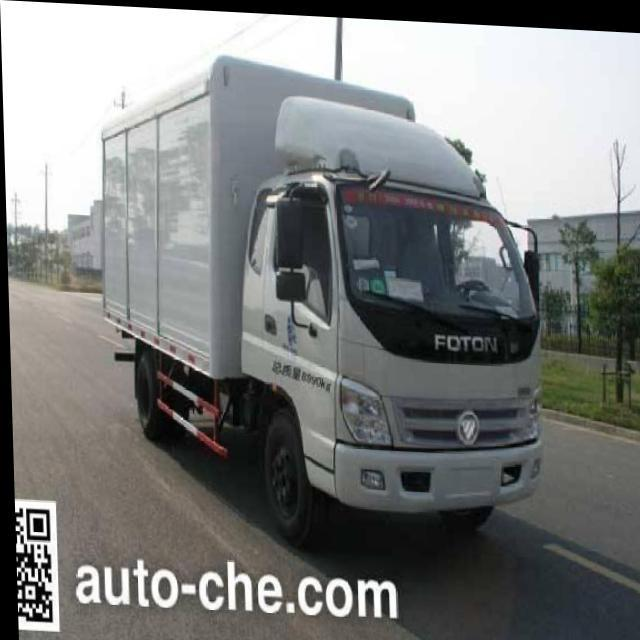covered: (90, 20, 566, 547)
